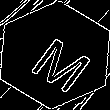M_NE: (18, 21, 92, 89)
